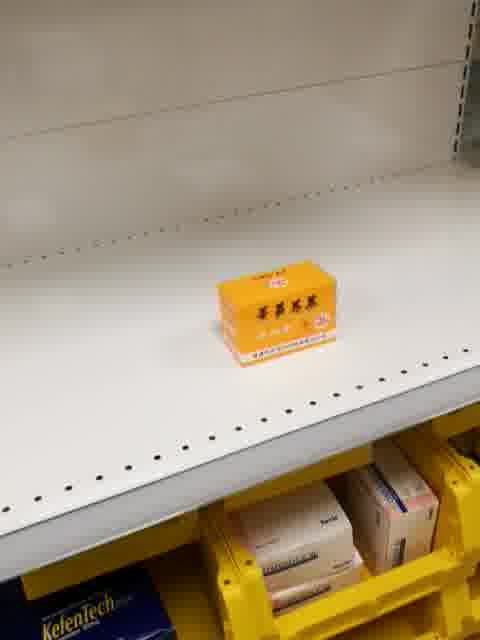jasminetea: (219, 259, 337, 367)
